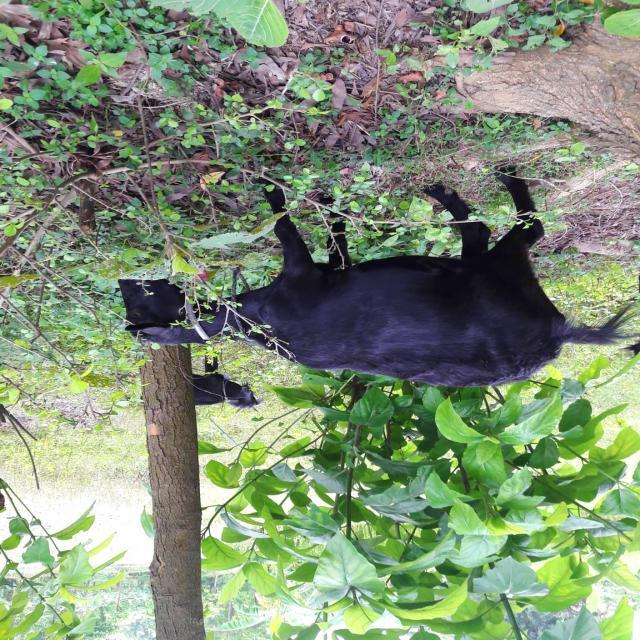Goat: (117, 164, 638, 389), (190, 355, 263, 413)
